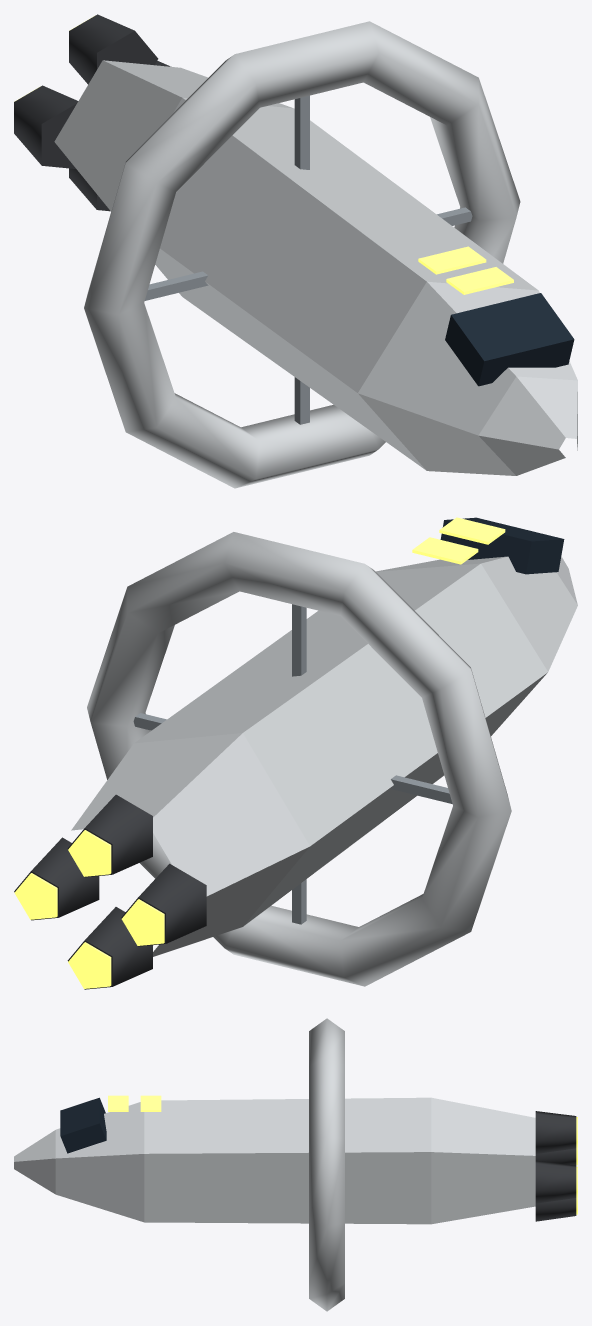
File: space_ship_colony_transport_mk1_lod1.glb
3 renders of one model, top to bottom at view 1: azimuth 30°, elevation 25°; view 2: azimuth 150°, elevation 25°; view 3: azimuth 270°, elevation 25°, orthographic. The views are drawn at different scales.
Visible parts, largest first — view 1: body, habitat_ring_0, engine_2, engine_1; view 2: body, habitat_ring_0, engine_2, engine_1, engine_0, engine_3; view 3: body, habitat_ring_0, engine_0, engine_1, engine_3, engine_2.
Boxes of the visible parts, <box> form: body: <box>54,60,577,475</box>; habitat_ring_0: <box>84,21,520,488</box>; engine_2: <box>14,85,78,168</box>; engine_1: <box>69,14,158,84</box>; body: <box>71,517,577,956</box>; habitat_ring_0: <box>87,532,511,986</box>; engine_2: <box>121,863,206,946</box>; engine_1: <box>67,794,152,877</box>; engine_0: <box>14,837,99,920</box>; engine_3: <box>67,907,152,989</box>; body: <box>14,1095,535,1224</box>; habitat_ring_0: <box>309,1018,344,1311</box>; engine_0: <box>535,1160,577,1203</box>; engine_1: <box>535,1111,577,1153</box>; engine_3: <box>535,1196,577,1221</box>; engine_2: <box>535,1147,577,1165</box>.
Bounding box in the file's own units: 22.67 × 21.56 × 43.24.
